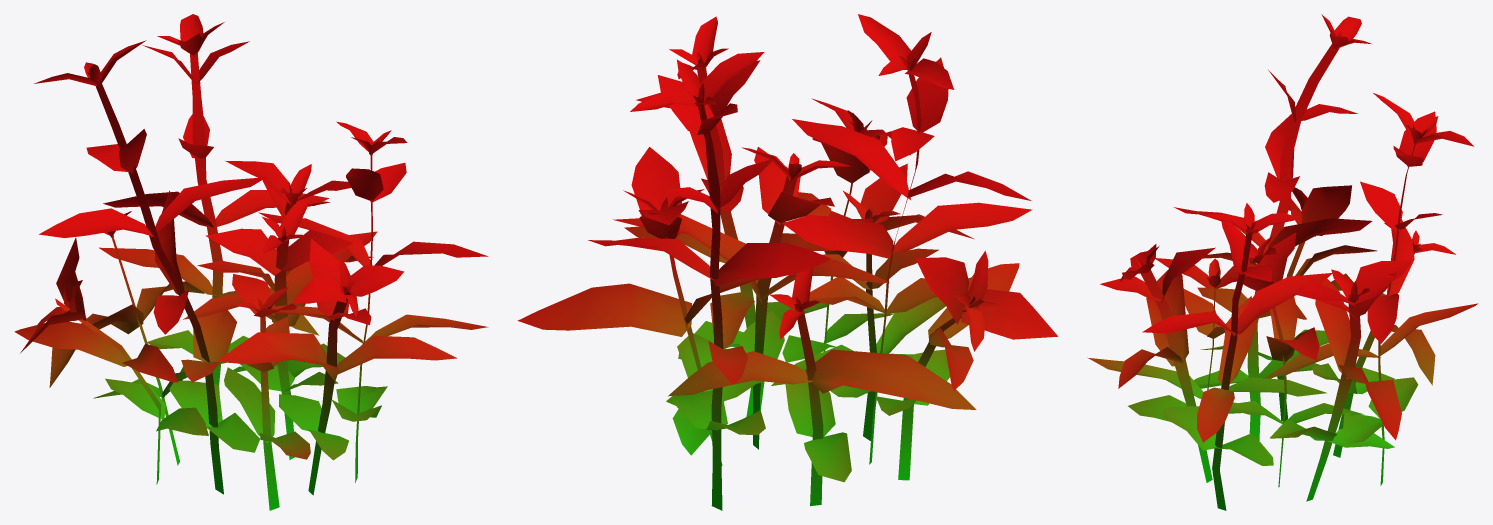
The model's file is Var4_LOD4.fbx.
The picture shows the model from 3 angles, left to right: view 1: azimuth 30°, elevation 25°; view 2: azimuth 150°, elevation 25°; view 3: azimuth 270°, elevation 25°; orthographic projection. The views are drawn at different scales.
Parts seen in each view (by area): view 1: _a0og_Var4_LOD4; view 2: _a0og_Var4_LOD4; view 3: _a0og_Var4_LOD4.
Part boxes in pixels (box(x1,y1,x2,y2)): _a0og_Var4_LOD4: box(14, 14, 488, 510); _a0og_Var4_LOD4: box(517, 14, 1057, 510); _a0og_Var4_LOD4: box(1087, 14, 1478, 510).
Size of the model in its own units: 39.02 by 38.27 by 33.39.
